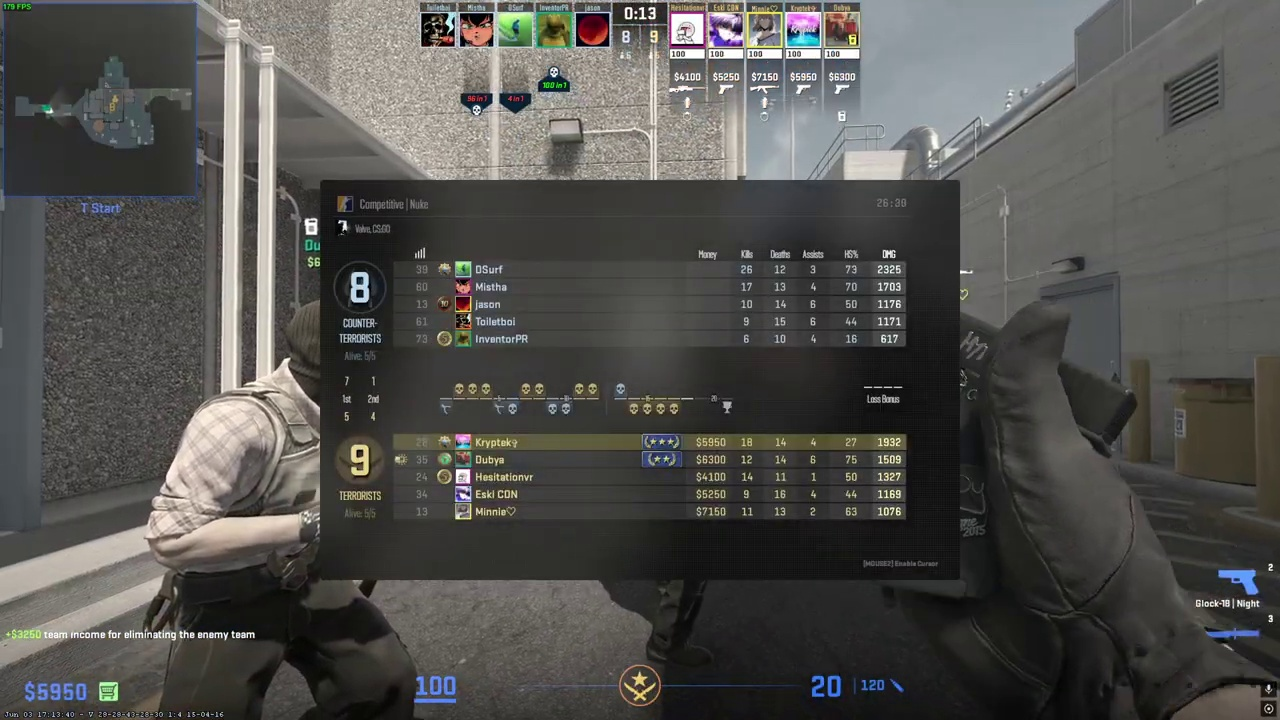Terrorist: (148, 298, 415, 719)
